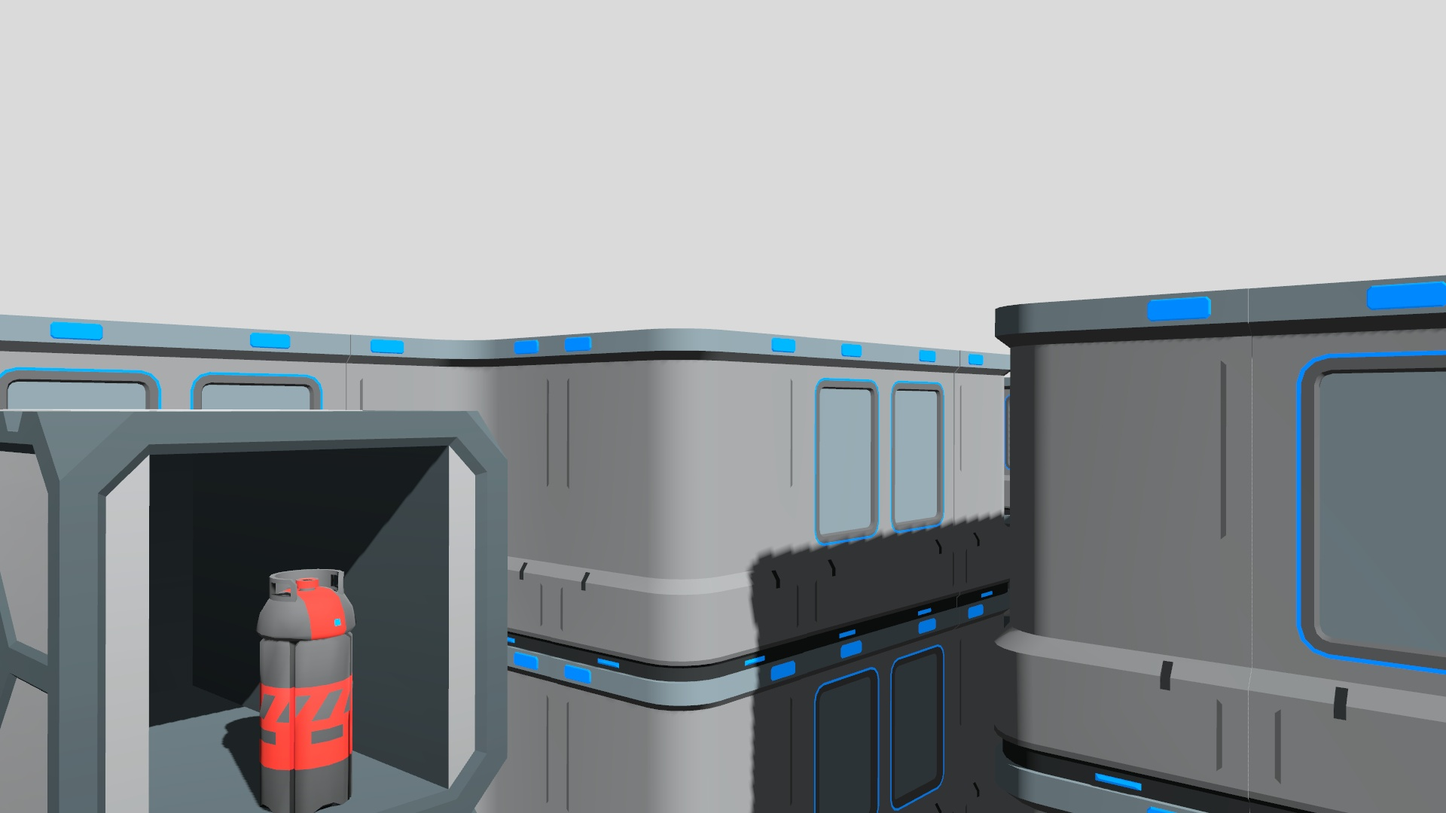red_barrel: (254, 564, 361, 810)
